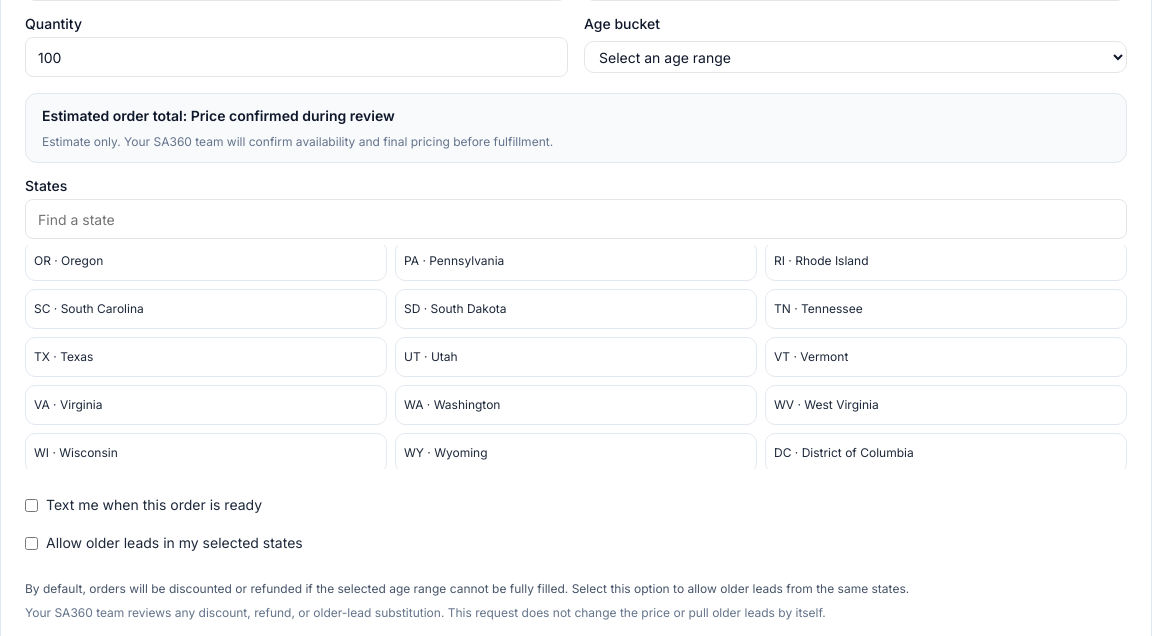
Test case: age bucket is required and older-lead consent defaults off
The image size is (1152, 636).
(page scrolled)
What coordinates should you click on to do the following:
click the text "TX · Texas"
I would click on:
 (64, 357)
Its box is [34,349,93,365].
(page scrolled)
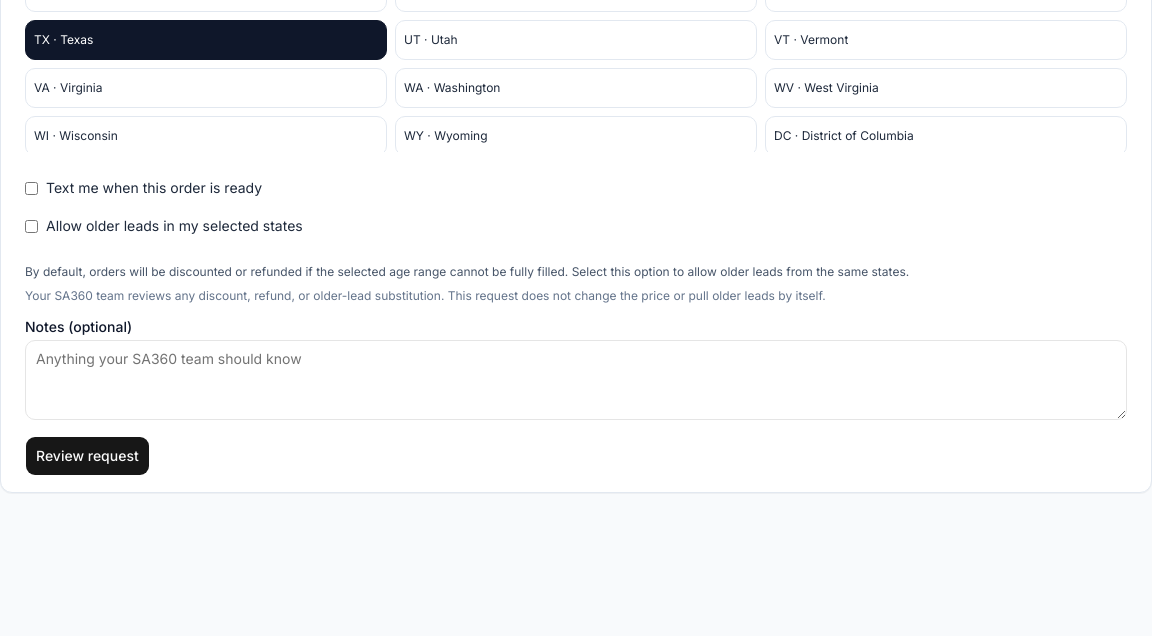
What coordinates should you click on to do the following:
click the button "Review request"
I would click on:
 (87, 456)
Its box is [25,436,150,476].
(page scrolled)
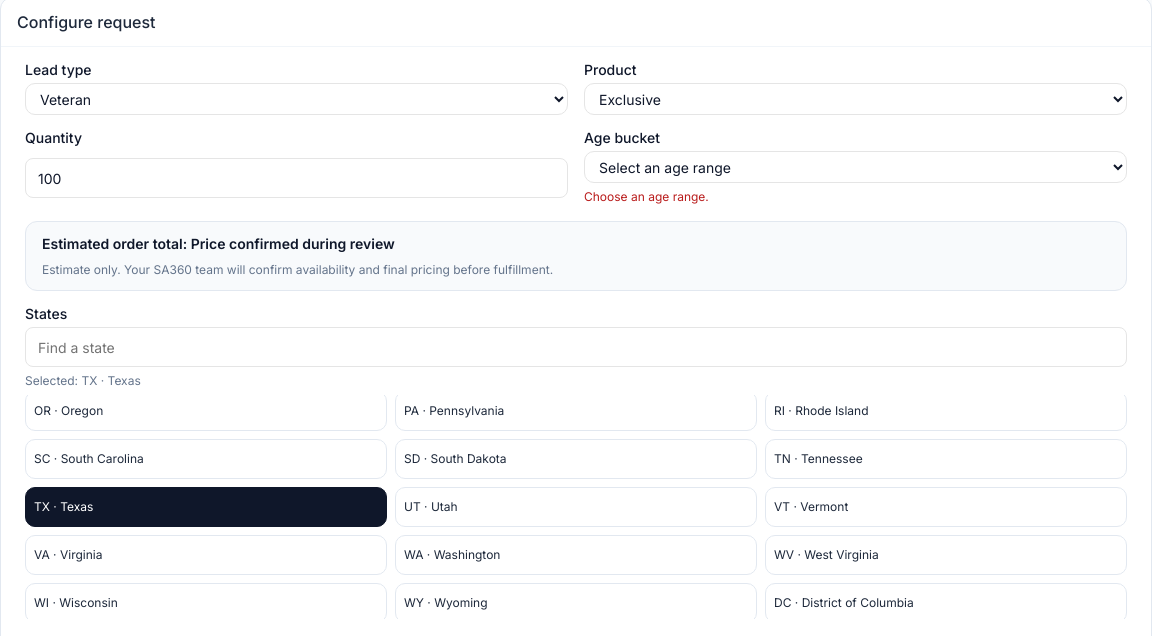
Now the text "Choose an age range." is shown, box [584,189,709,204]
